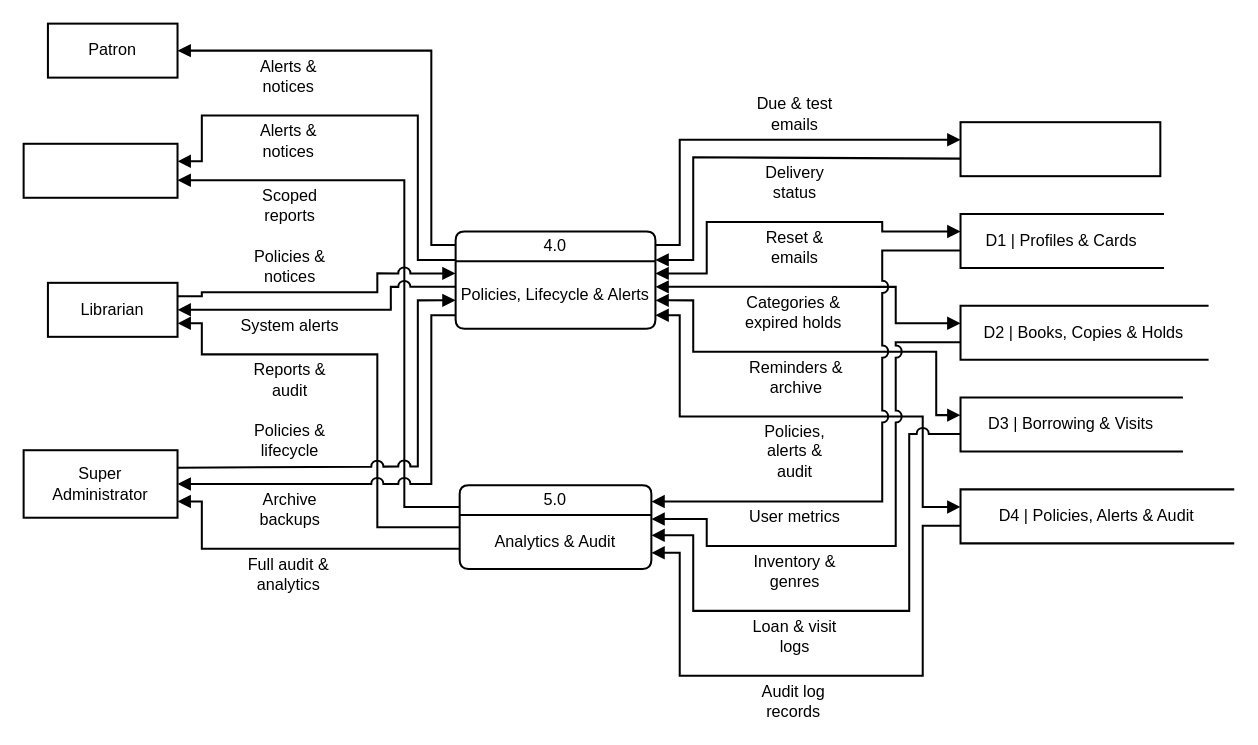
Some shapes in this 1258 by 745 pixel diagram are drawn without their labels. Each missing label, with the box of its shape:
Email SMTP Service: (959, 121, 1161, 177)
Library Staff: (22, 142, 178, 198)
